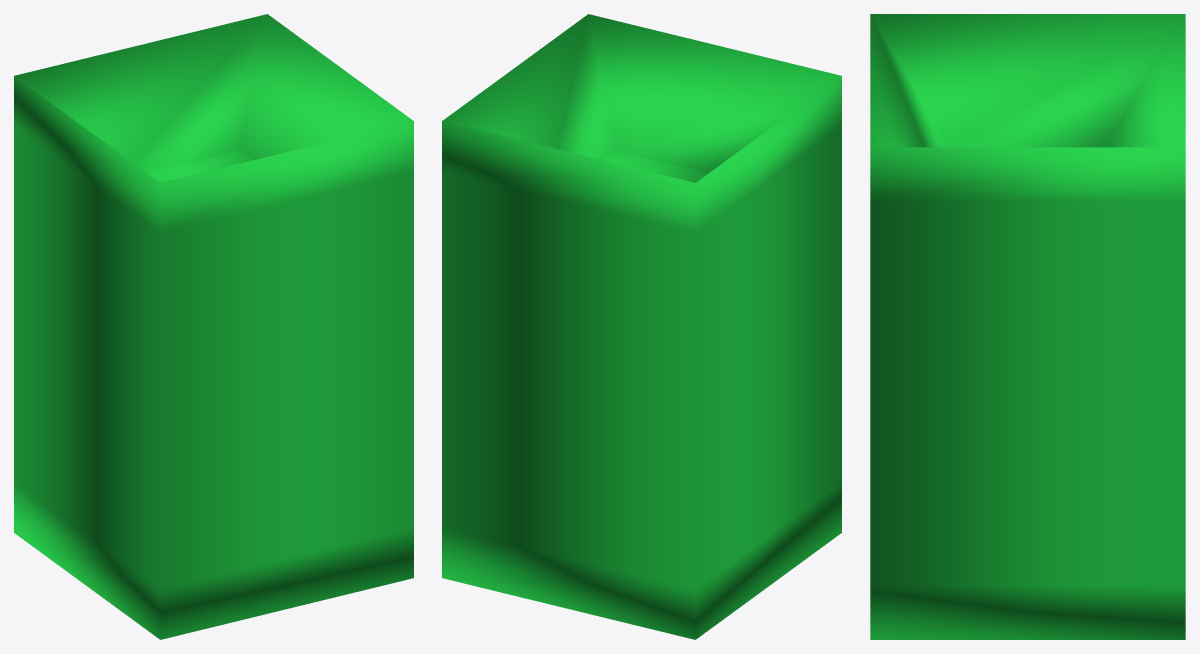
Rendered from dustbin.fbx.
The picture shows the model from 3 angles, left to right: view 1: azimuth 30°, elevation 25°; view 2: azimuth 150°, elevation 25°; view 3: azimuth 270°, elevation 25°; orthographic projection. The views are drawn at different scales.
Visible parts, largest first — view 1: Plane; view 2: Plane; view 3: Plane.
Boxes of the visible parts, x1,y1,x2,y2 form: Plane: (14,14,413,639); Plane: (442,14,841,639); Plane: (870,14,1185,639).
Bounding box in the file's own units: 411 × 708 × 411.
